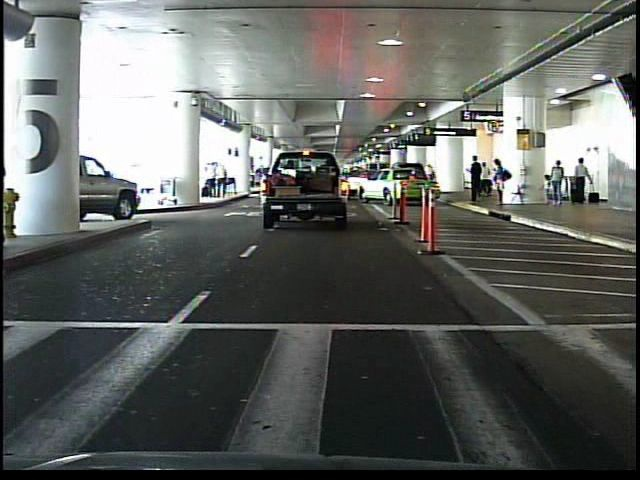person: (468, 154, 487, 206), (493, 157, 511, 208), (480, 157, 493, 200)
